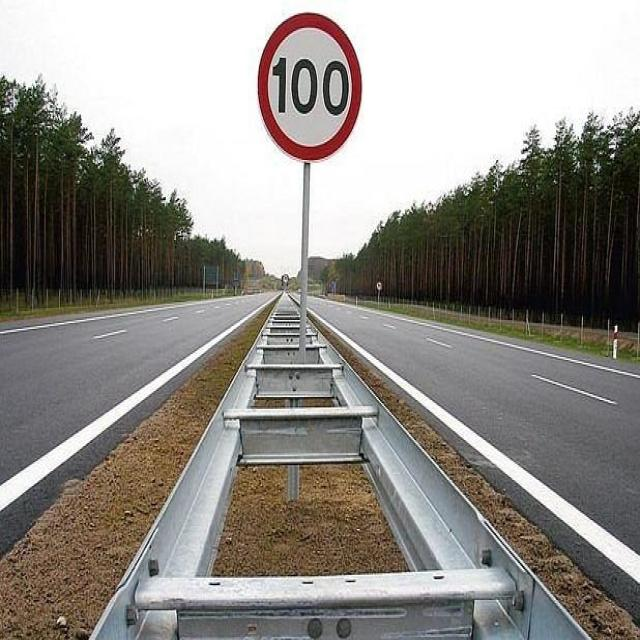Speed Limit -100-: (271, 55, 351, 116)
